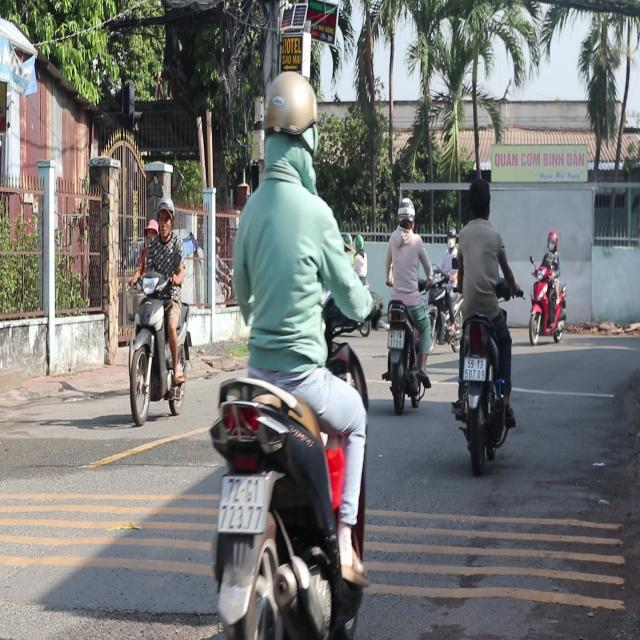helmet: (258, 68, 318, 182), (154, 196, 174, 240), (396, 197, 415, 230)
licenseplate: (202, 67, 378, 632), (448, 170, 519, 468), (124, 192, 192, 425), (382, 195, 432, 410)
motorcyclist: (466, 173, 492, 223)
nohelmet: (218, 474, 266, 530), (464, 357, 486, 380), (388, 329, 404, 348)
